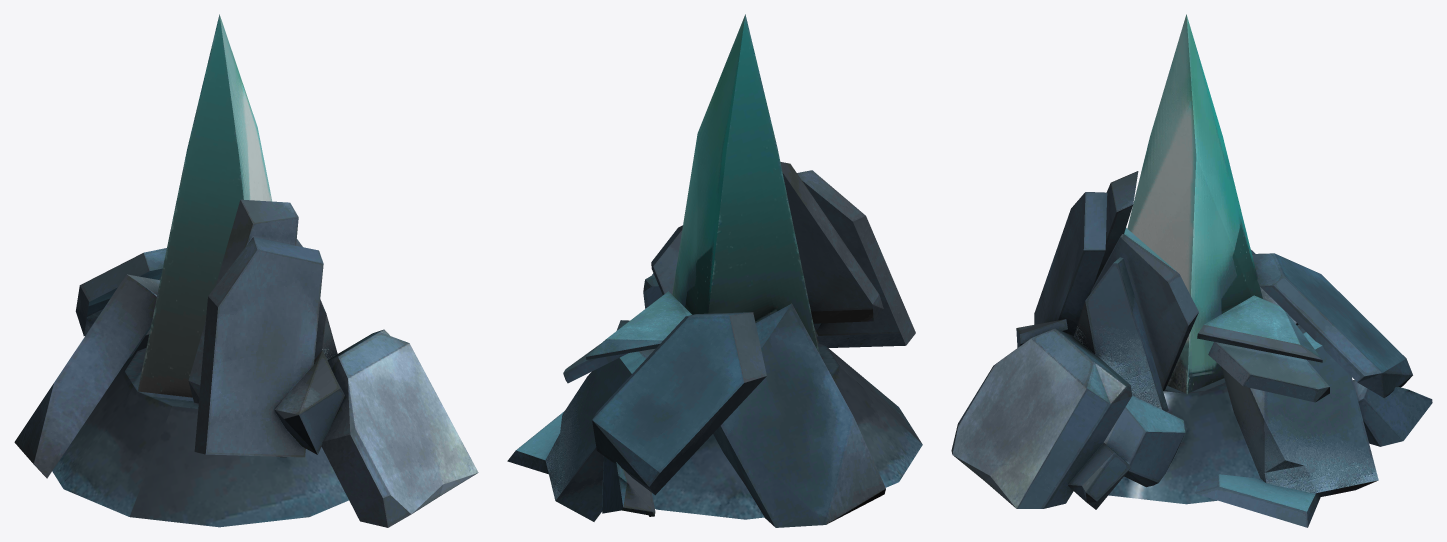
Rendered from trap_022_frosts_friend.glb.
3 views of the same model, side by side, from view 1: azimuth 30°, elevation 25°; view 2: azimuth 150°, elevation 25°; view 3: azimuth 270°, elevation 25° (orthographic). The views are drawn at different scales.
Visible parts, largest first — view 1: S_icer; view 2: S_icer; view 3: S_icer.
Boxes of the visible parts, box(x1,y1,x2,y2) form: S_icer: box(14, 14, 478, 527); S_icer: box(507, 14, 922, 527); S_icer: box(951, 14, 1432, 527).
Size of the model in its own units: 0.7218 by 0.9397 by 0.9188.
Materials: 1 (1 with a texture image).
